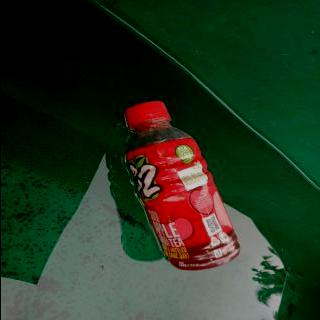bottle: (118, 100, 240, 272)
